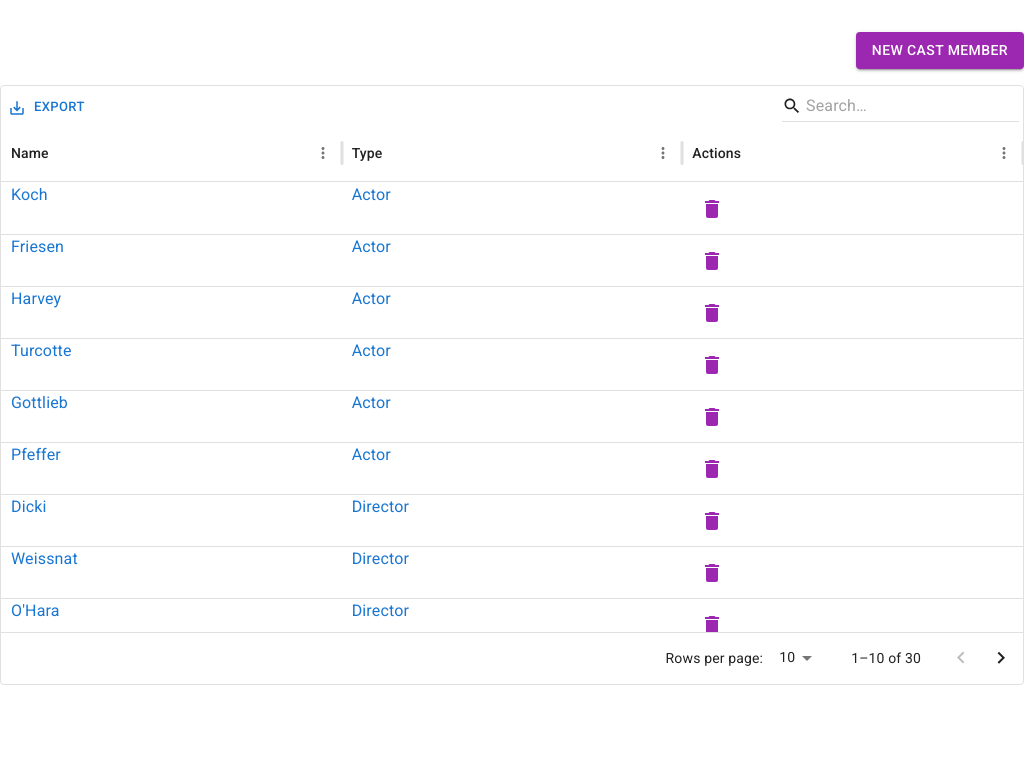
Test: Test ListCastMember page › should handle on page change
The image size is (1036, 768).
Expected: the text "Koch" is shown, x1=11 y1=184 x2=48 y2=204
Click the button with test id "KeyboardArrowRightIcon": (1001, 658) x1=981 y1=638 x2=1021 y2=678
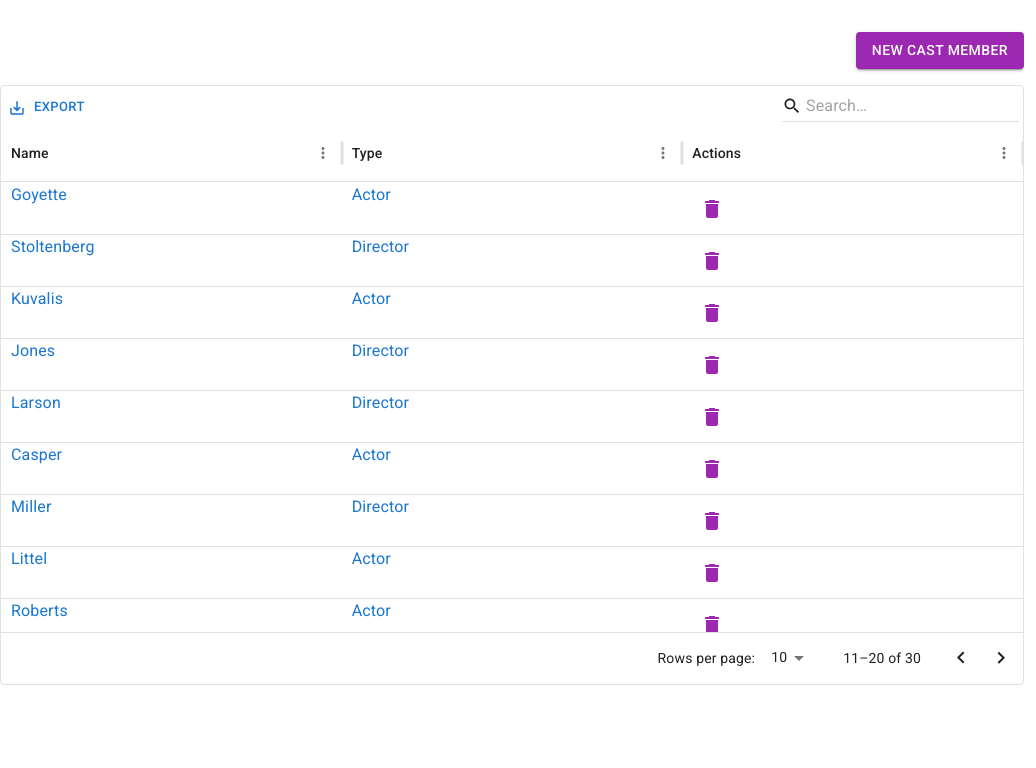
Expected: the text "Goyette" is shown, x1=11 y1=184 x2=67 y2=204
